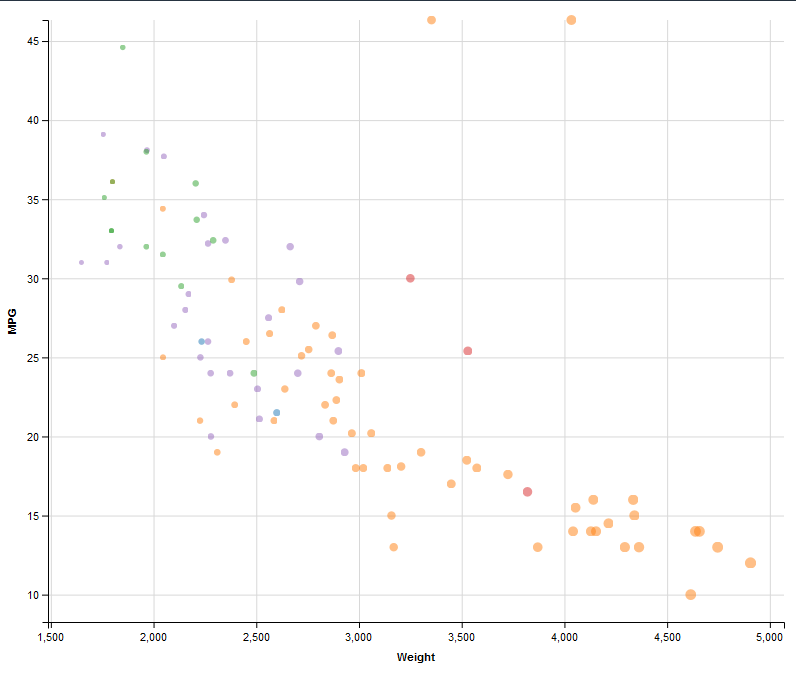

The dashboard page shown, as its layout file describes it:
{"tool":"tableau","page":{"name":"Dashboard 1","canvas":[1000,800],"ordinal":0},"visuals":[{"type":"worksheet","title":"Sheet 1","mark":"Circle","rows":["MPG"],"cols":["Weight"],"box":[0,0,840,800]},{"type":"legend","title":"Sheet 1","param":"[textscan.14h8h6g1ua10101g5851s1sy8clt].[none:Manufacturer:nk]","box":[840,0,160,134]},{"type":"legend","title":"Sheet 1","param":"[textscan.14h8h6g1ua10101g5851s1sy8clt].[none:Weight:qk]","box":[840,134,160,110]}]}

Visuals, with their boxes on the page's 1000x800 design canvas (x1, y1, x2, y2). These are canvas units, not pixel positions in the 796x676 screenshot, which may show the page scaled, cropped or inside an application window:
"Sheet 1" worksheet (Circle marks): 0:0:840:800
"Sheet 1" legend: 840:0:1000:134
"Sheet 1" legend: 840:134:1000:244
